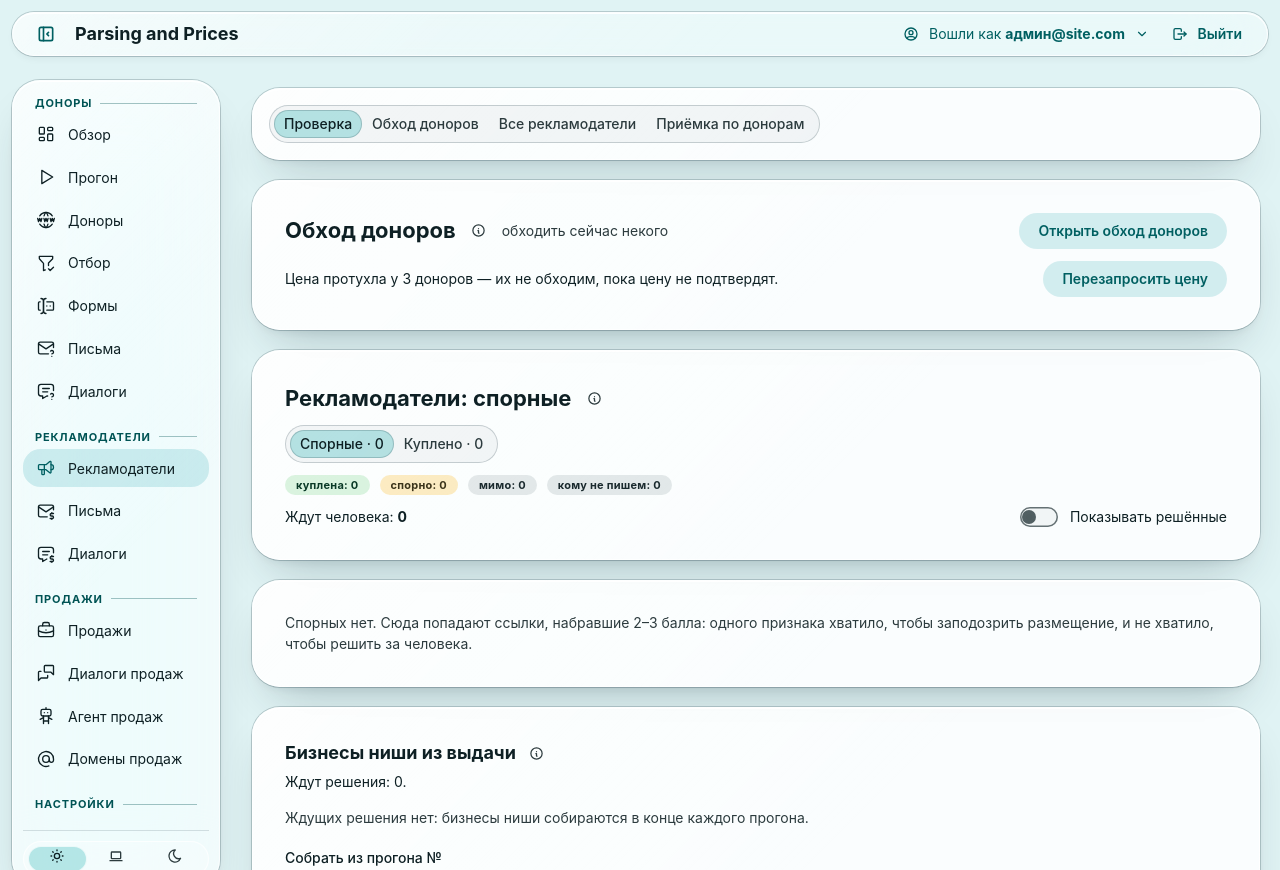
it: протухшие цены на панели обхода › строка говорит, сколько их, а список в окне — куда уйдёт письмо или почему нет
Expected: the text "Цена протухла у 3 доноров — их не обходим" is shown, [285,268,778,289]
Click the button "Перезапросить цену". click: (1135, 279)
box: [1043,261,1227,297]
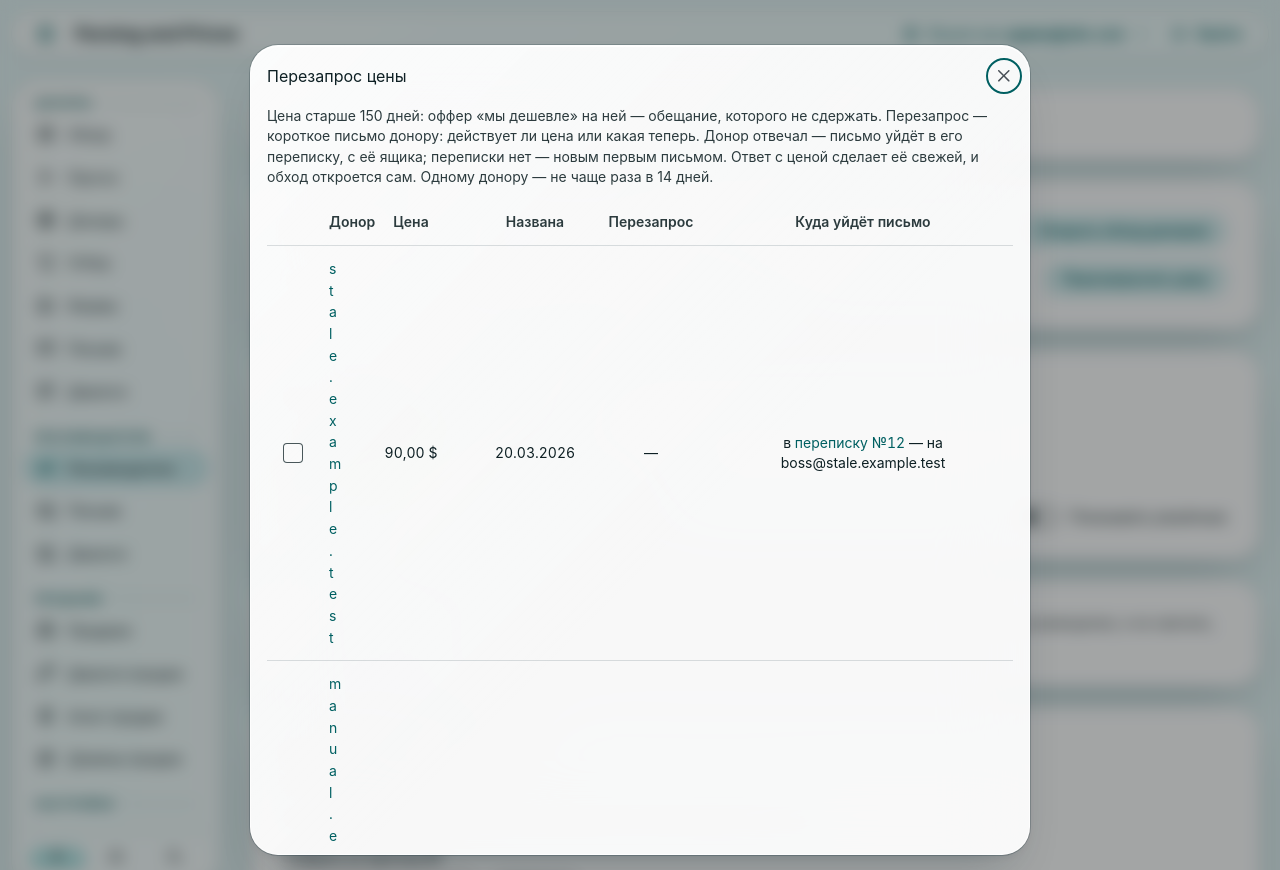
Now the link "stale.example.test" is shown, box [329,260,341,646]
Now the dialog "Перезапрос цены" is shown, box [250,45,1030,855]
Now the text "stale.example.test" shows "на boss@stale.example.test", box [781,434,945,471]
